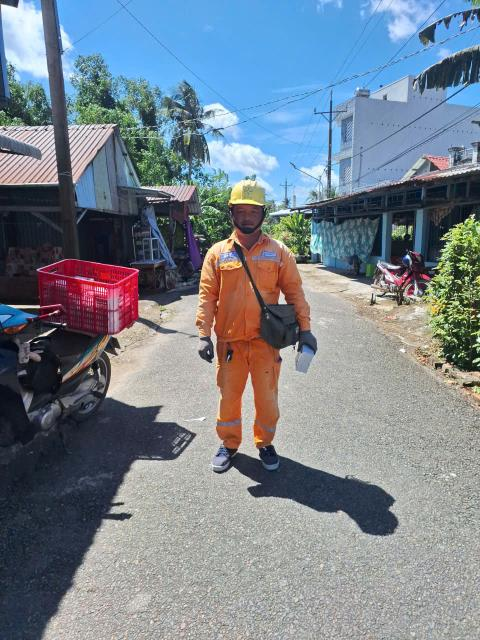gloves: (192, 329, 221, 372), (296, 330, 324, 356)
helmet: (227, 177, 276, 213)
shoes: (247, 432, 301, 467), (197, 436, 248, 471)
